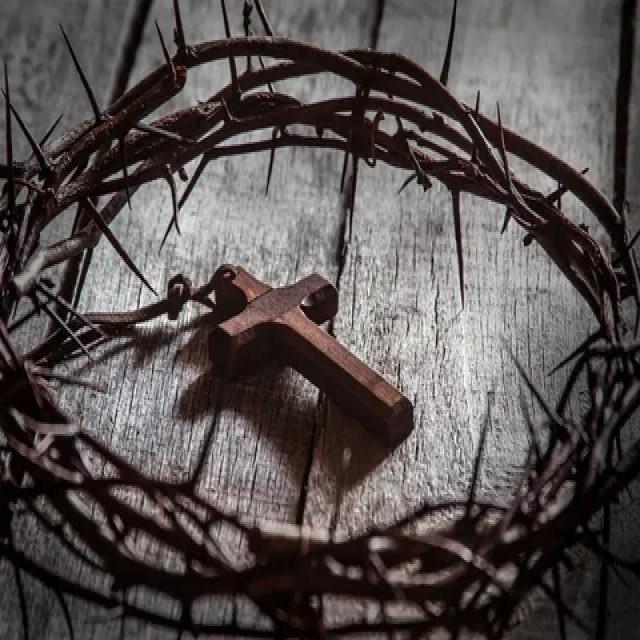crown: (0, 17, 640, 620)
